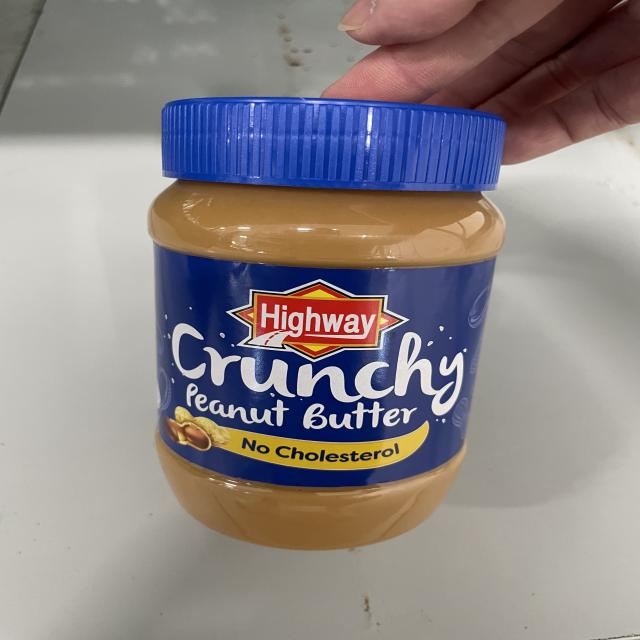object_name: (164, 107, 477, 541)
